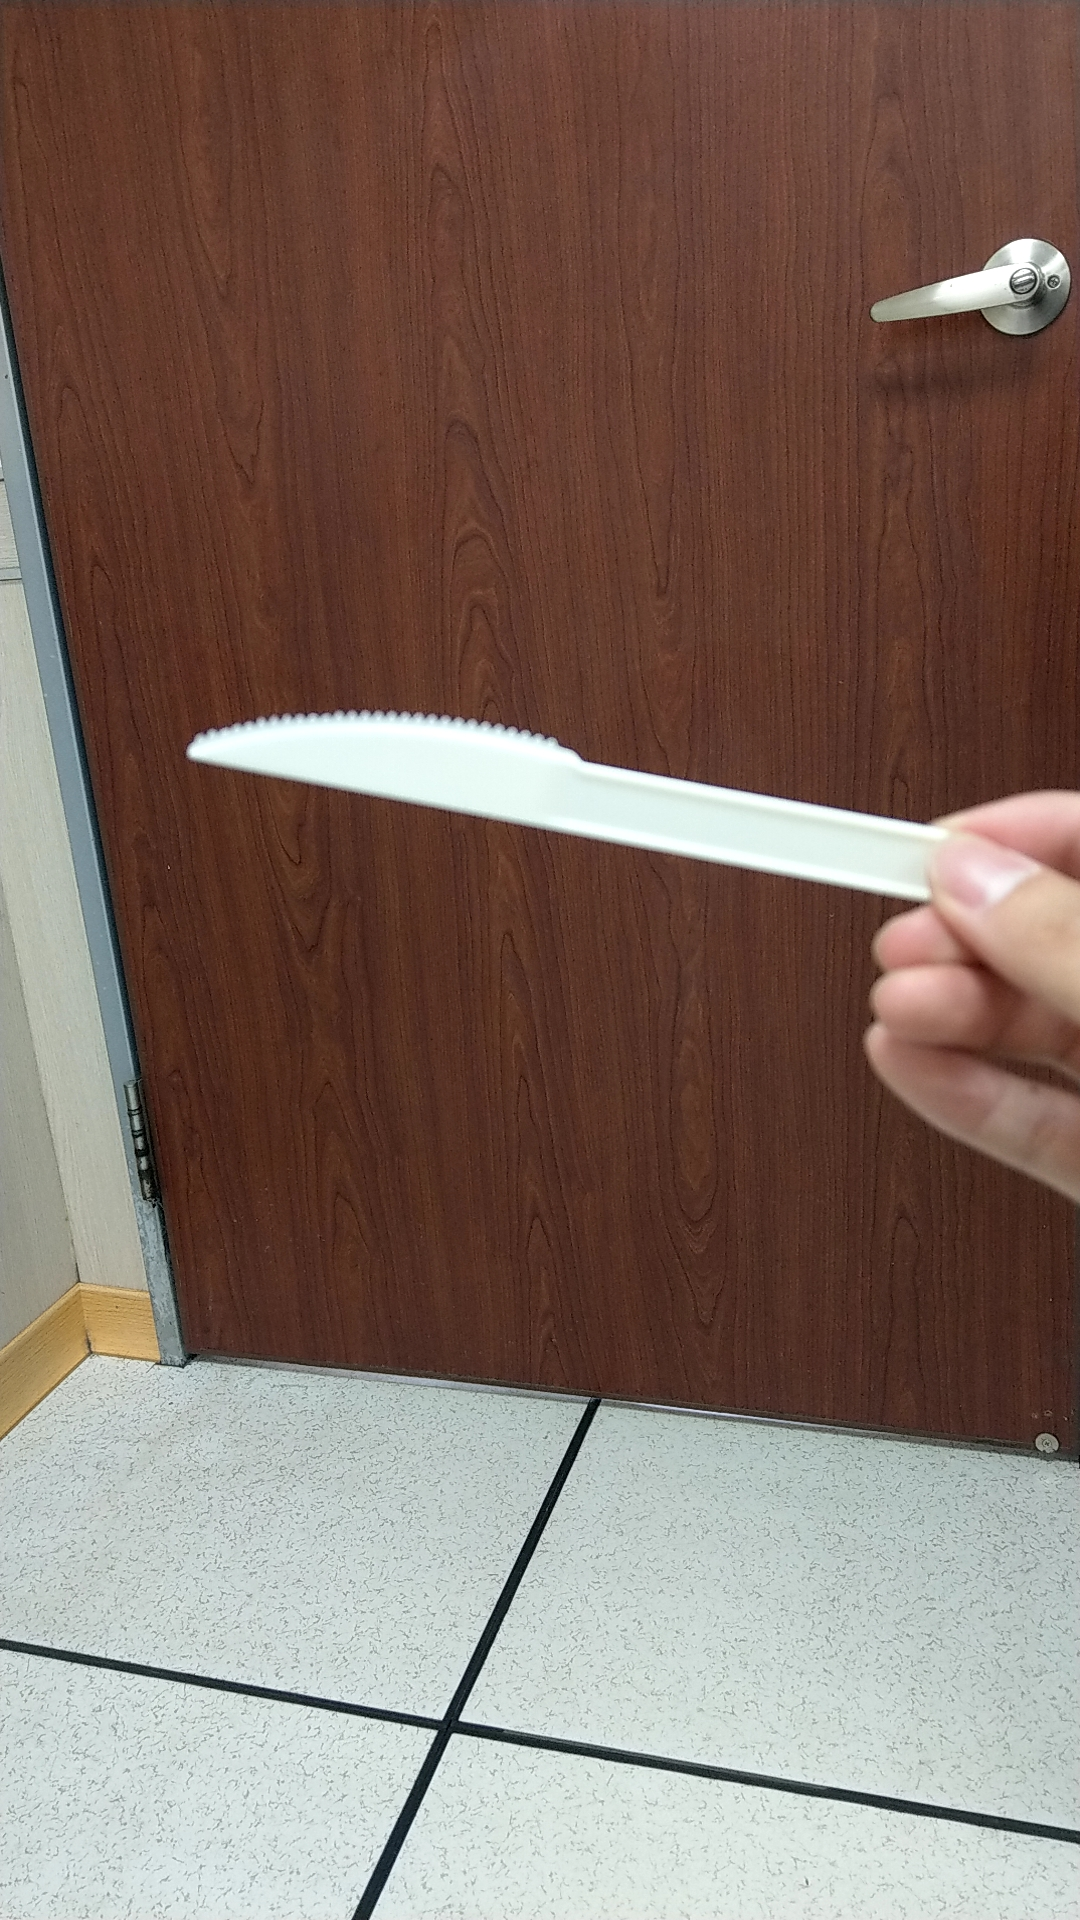knife: (136, 632, 924, 907)
